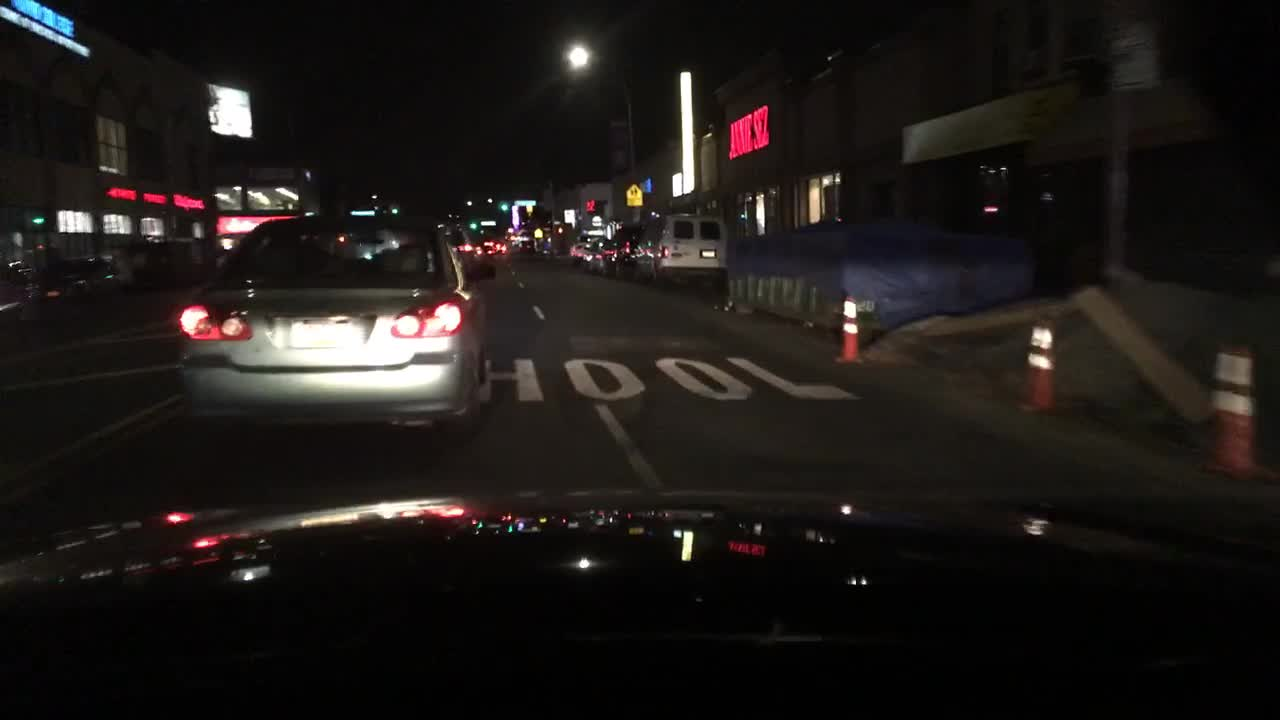car: (178, 213, 498, 424), (641, 213, 729, 288), (42, 252, 119, 307), (0, 257, 36, 310), (604, 228, 641, 279), (448, 227, 474, 257), (585, 232, 605, 271), (570, 232, 601, 257), (517, 238, 537, 252), (492, 237, 509, 252), (481, 239, 494, 253)
traffic light: (499, 200, 510, 213), (470, 219, 478, 231)
traffic sign: (1109, 15, 1164, 91), (626, 184, 643, 207), (562, 208, 576, 224), (512, 199, 535, 206), (479, 219, 497, 227), (533, 227, 543, 239)
